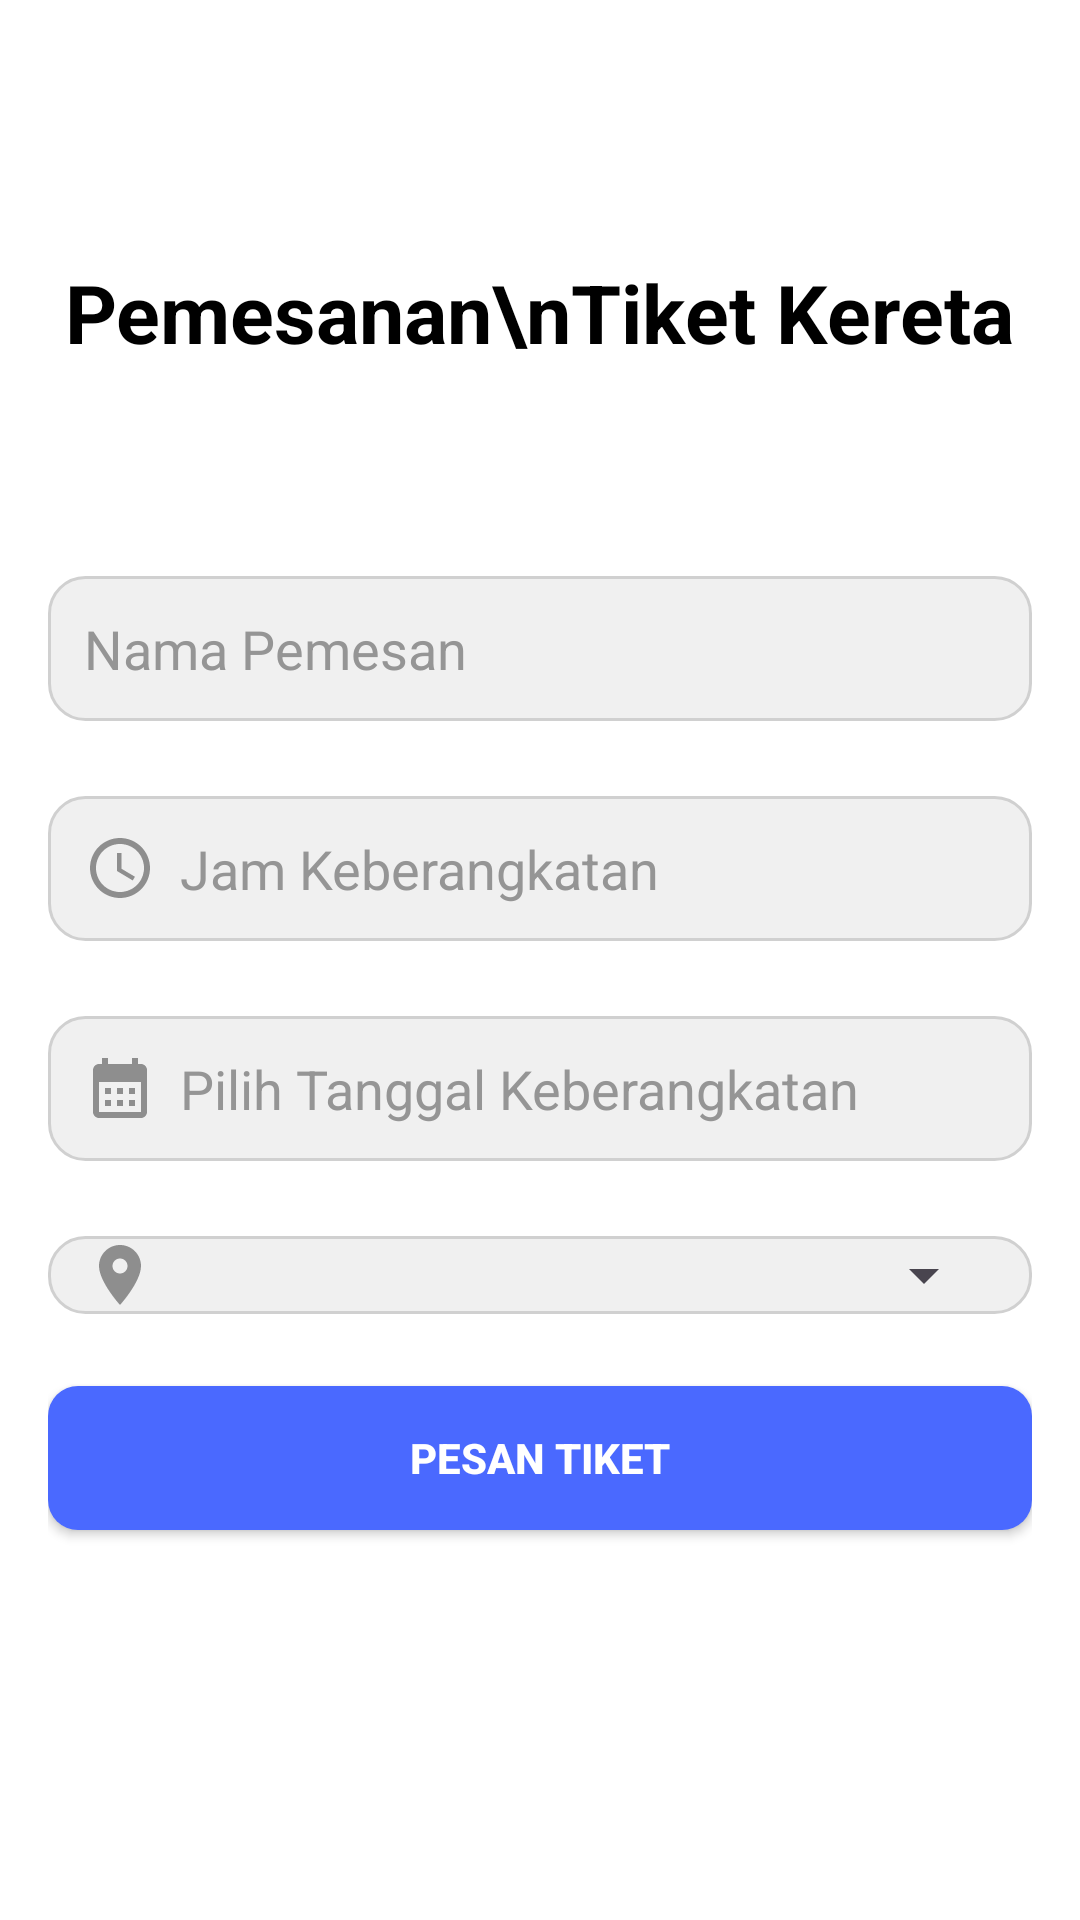

Where icons sit on this 1080x1920 app screen, as [x1,y1,x2,y2]:
location on: [99,1245,141,1305]
